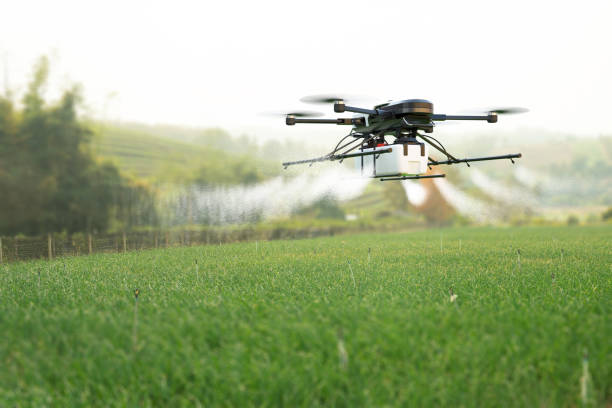Drone: (269, 90, 535, 158)
